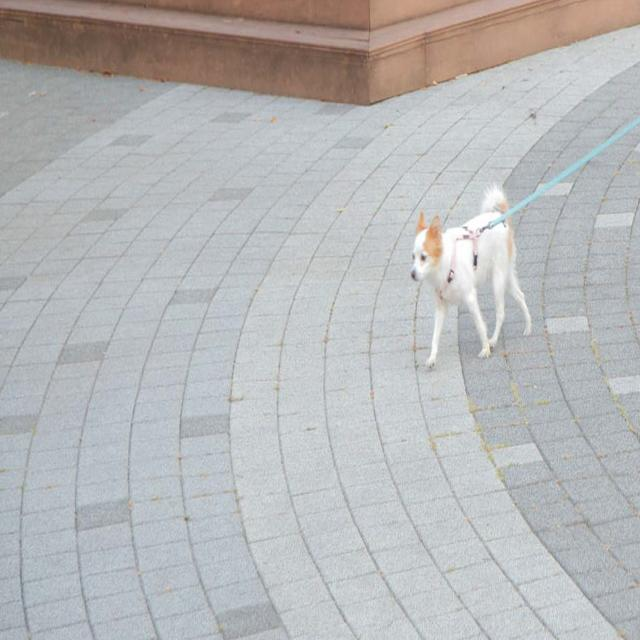Dog: (412, 184, 532, 368)
